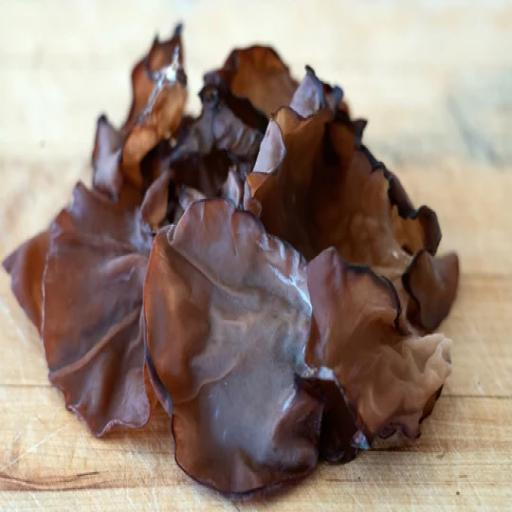Wood Ear Mushroom: (2, 7, 470, 499)
